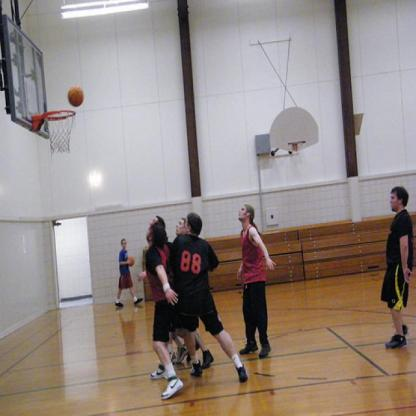basketball: (67, 85, 84, 108)
rim: (43, 109, 78, 122), (288, 140, 306, 146)
